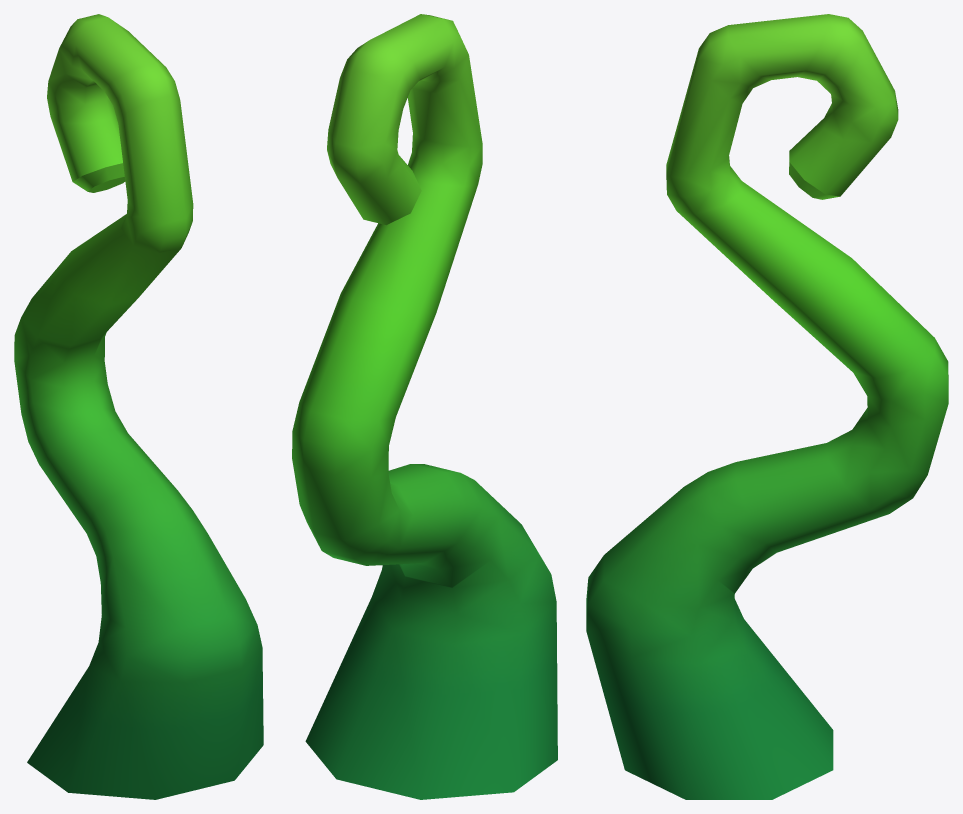
The model's file is Vine_3_1.glb.
The picture shows the model from 3 angles, left to right: view 1: azimuth 30°, elevation 25°; view 2: azimuth 150°, elevation 25°; view 3: azimuth 270°, elevation 25°; orthographic projection. The views are drawn at different scales.
Parts seen in each view (by area): view 1: Vine_3_1; view 2: Vine_3_1; view 3: Vine_3_1.
Boxes of the visible parts, x1,y1,x2,y2 form: Vine_3_1: (14, 14, 263, 799); Vine_3_1: (292, 14, 557, 799); Vine_3_1: (586, 14, 948, 799).
Bounding box in the file's own units: 0.227 × 0.7752 × 0.3487.
Materials: 1 (1 with a texture image).
